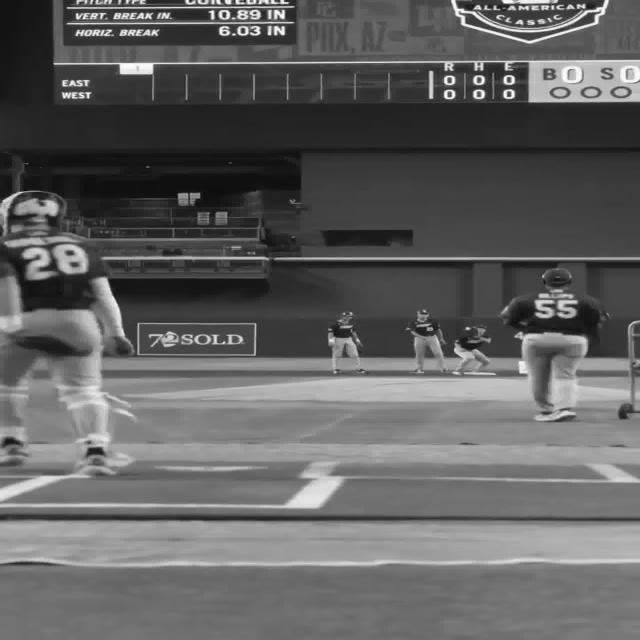base: (450, 373, 500, 377)
baseball: (465, 326, 472, 331)
baseball_glove: (8, 329, 92, 357)
shoe: (77, 448, 117, 476), (0, 436, 30, 466), (532, 409, 576, 421), (105, 451, 135, 467), (554, 409, 576, 421), (532, 411, 552, 421), (355, 368, 369, 374), (410, 369, 424, 373), (332, 369, 342, 374), (451, 370, 463, 374), (439, 368, 447, 372)
